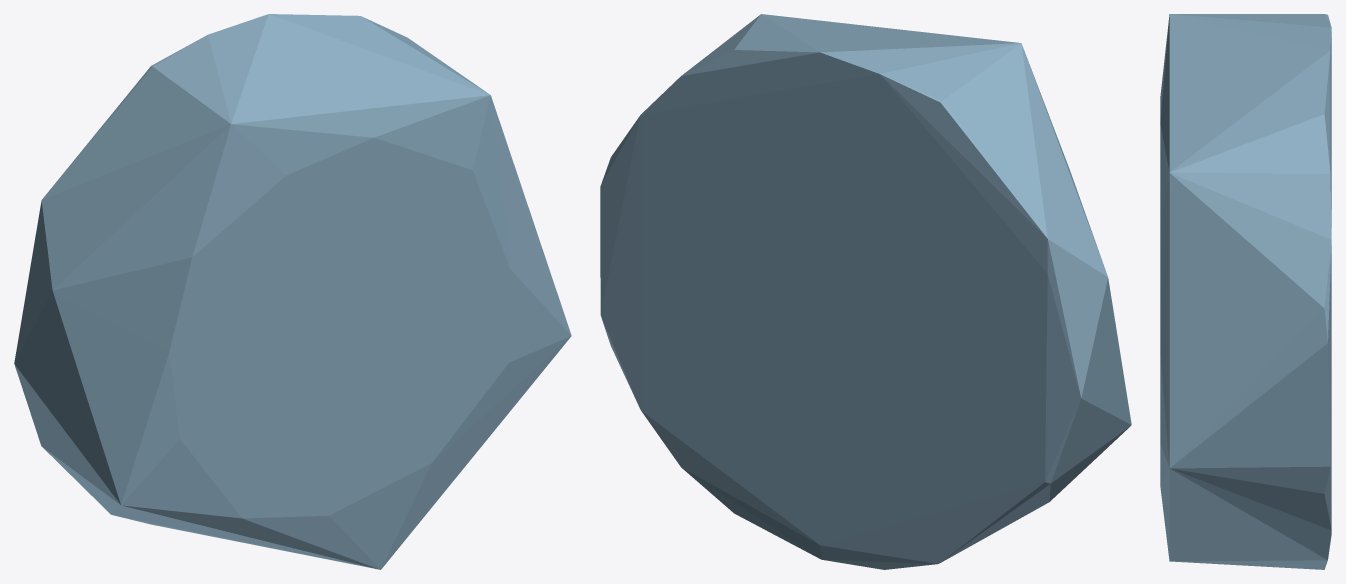
File: consumable_bearing_ball_d01.glb
3 views of the same model, side by side, from view 1: azimuth 30°, elevation 25°; view 2: azimuth 150°, elevation 25°; view 3: azimuth 270°, elevation 25° (orthographic).
Parts seen in each view (by area): view 1: geometry_0; view 2: geometry_0; view 3: geometry_0.
Part boxes in pixels (<box>): geometry_0: <box>14,14,571,569</box>; geometry_0: <box>600,14,1131,569</box>; geometry_0: <box>1160,14,1331,569</box>.
Bounding box in the file's own units: 0.4706 × 0.4761 × 0.148.
